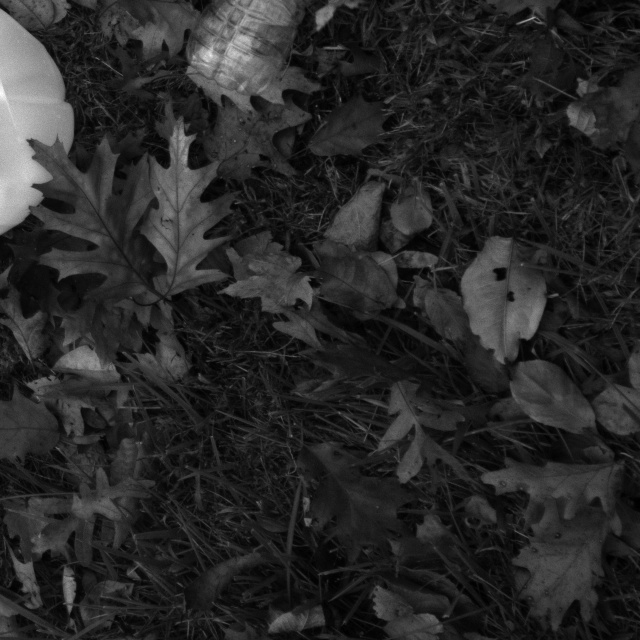bottle: (185, 0, 383, 107)
can: (0, 0, 80, 269)
